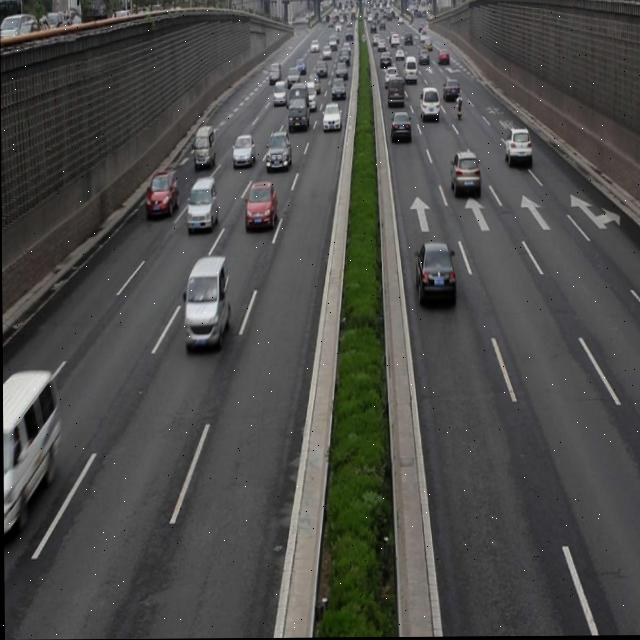car: (414, 240, 455, 305), (143, 167, 178, 217), (245, 180, 276, 233), (449, 150, 479, 198), (504, 126, 530, 166), (266, 130, 291, 170), (231, 132, 255, 168), (391, 112, 413, 144), (321, 101, 340, 132)
truck: (2, 368, 58, 528), (184, 256, 230, 350), (186, 176, 218, 231), (286, 82, 310, 131), (193, 125, 217, 168), (417, 85, 439, 120)
